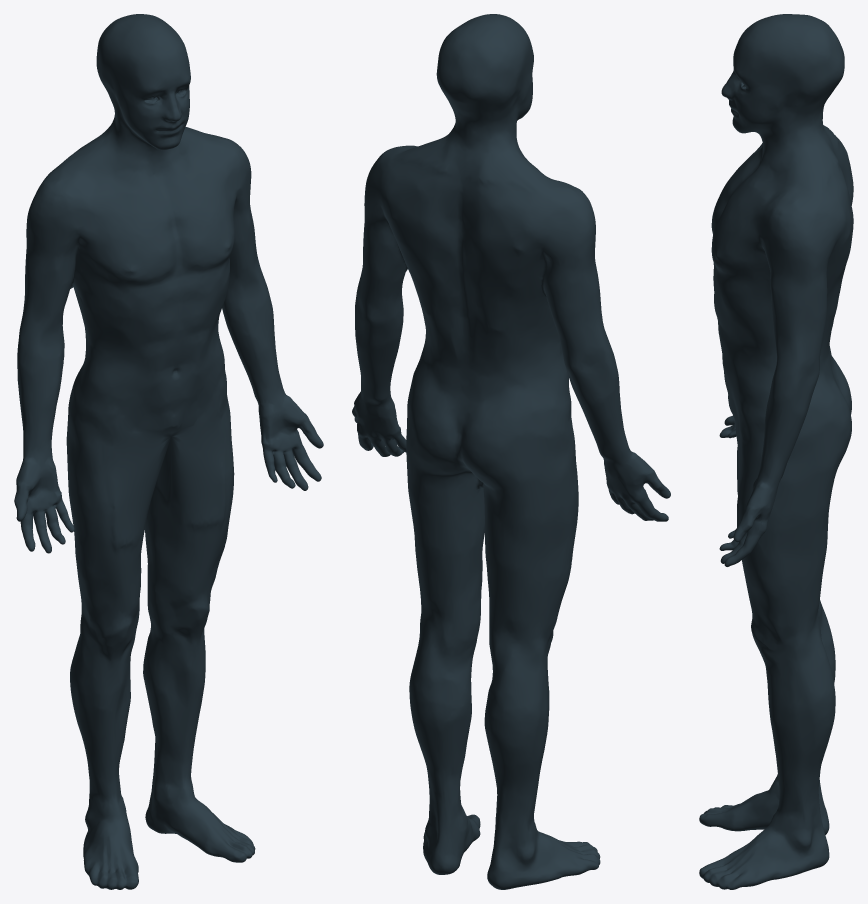
Rendered from twin-anatomy-continuous-candidate.glb.
The picture shows the model from 3 angles, left to right: view 1: azimuth 30°, elevation 25°; view 2: azimuth 150°, elevation 25°; view 3: azimuth 270°, elevation 25°; orthographic projection. The views are drawn at different scales.
Visible parts, largest first — view 1: twin-region:neutral, twin-region:legs, twin-region:abs, twin-region:arms, twin-region:chest, twin-region:shoulders, twin-region:glutes, twin-region:back; view 2: twin-region:legs, twin-region:neutral, twin-region:arms, twin-region:glutes, twin-region:back, twin-region:shoulders, twin-region:abs, twin-region:core; view 3: twin-region:neutral, twin-region:legs, twin-region:arms, twin-region:abs, twin-region:shoulders, twin-region:glutes, twin-region:chest, twin-region:back, twin-region:core.
Part boxes in pixels (<box>): twin-region:neutral: <box>14,14,323,889</box>; twin-region:legs: <box>67,395,234,811</box>; twin-region:abs: <box>76,255,230,435</box>; twin-region:arms: <box>16,195,308,502</box>; twin-region:chest: <box>75,155,238,286</box>; twin-region:shoulders: <box>26,134,251,260</box>; twin-region:glutes: <box>66,359,84,464</box>; twin-region:back: <box>54,130,215,180</box>; twin-region:legs: <box>408,392,578,836</box>; twin-region:neutral: <box>352,14,670,889</box>; twin-region:arms: <box>352,212,658,493</box>; twin-region:glutes: <box>406,350,569,519</box>; twin-region:back: <box>388,147,566,351</box>; twin-region:shoulders: <box>364,145,595,270</box>; twin-region:abs: <box>418,296,571,402</box>; twin-region:core: <box>398,245,551,326</box>; twin-region:neutral: <box>699,14,849,889</box>; twin-region:legs: <box>737,415,835,825</box>; twin-region:arms: <box>746,252,834,529</box>; twin-region:abs: <box>713,262,833,436</box>; twin-region:shoulders: <box>758,143,849,286</box>; twin-region:glutes: <box>785,348,851,513</box>; twin-region:chest: <box>711,144,773,272</box>; twin-region:back: <box>766,137,853,292</box>; twin-region:core: <box>754,258,847,316</box>.
Size of the model in its own units: 0.6594 by 1.7 by 0.2847.
